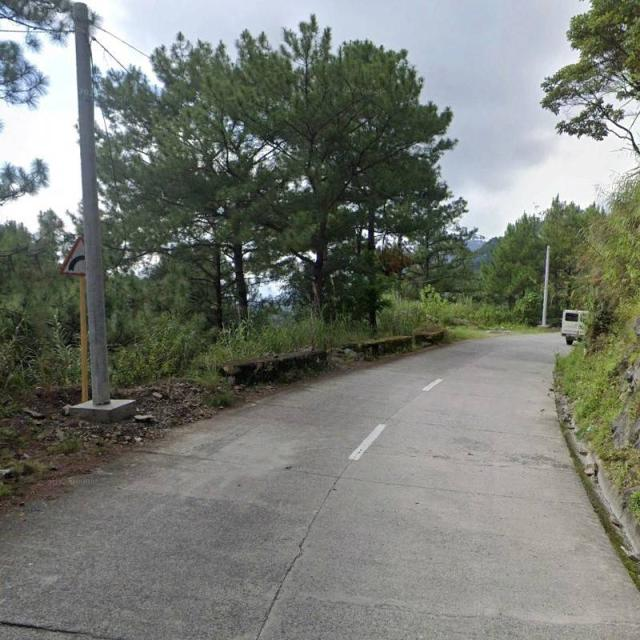warn_right_curve: (59, 235, 100, 275)
